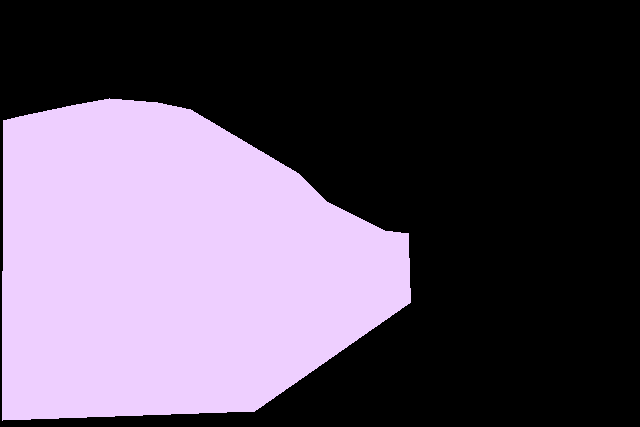Train: (2, 98, 410, 420)
